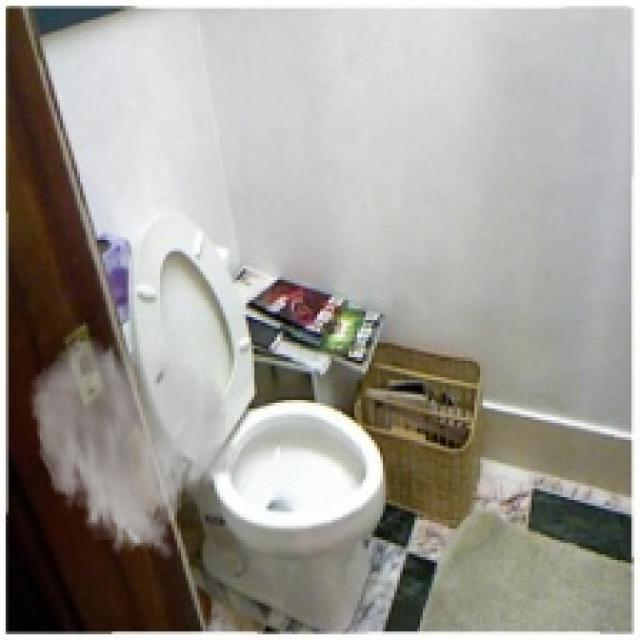Smoke: (28, 334, 240, 563)
